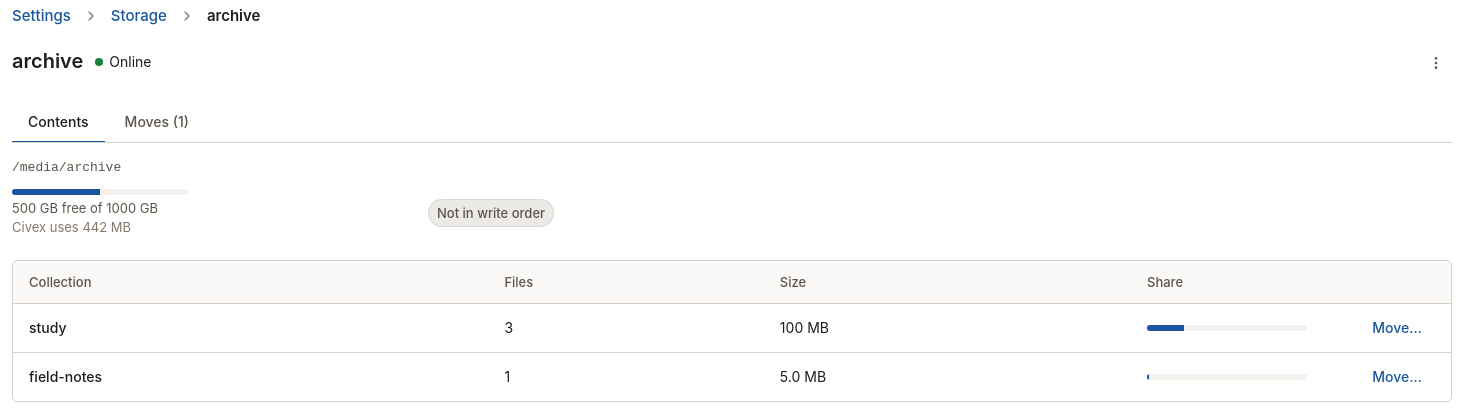
Test case: a volume’s page › shows the moves that involve the drive, and only those
The width and height of the screenshot is (1464, 419).
Click the tab "Moves (1)".
click(157, 123)  # box [109,103,205,143]
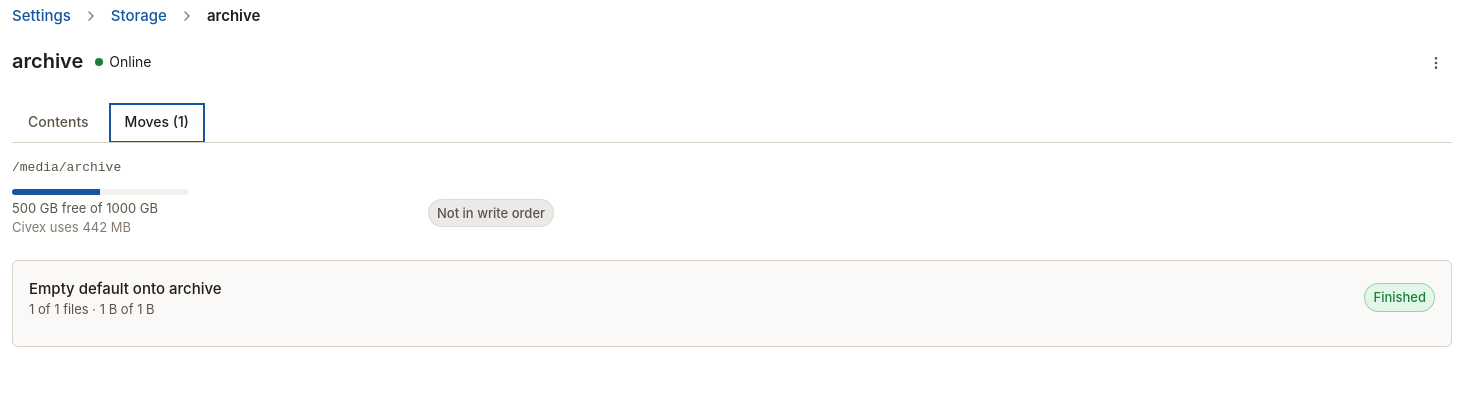
Check: the text "Empty default onto archive" is shown, box [29,277,222,300]
